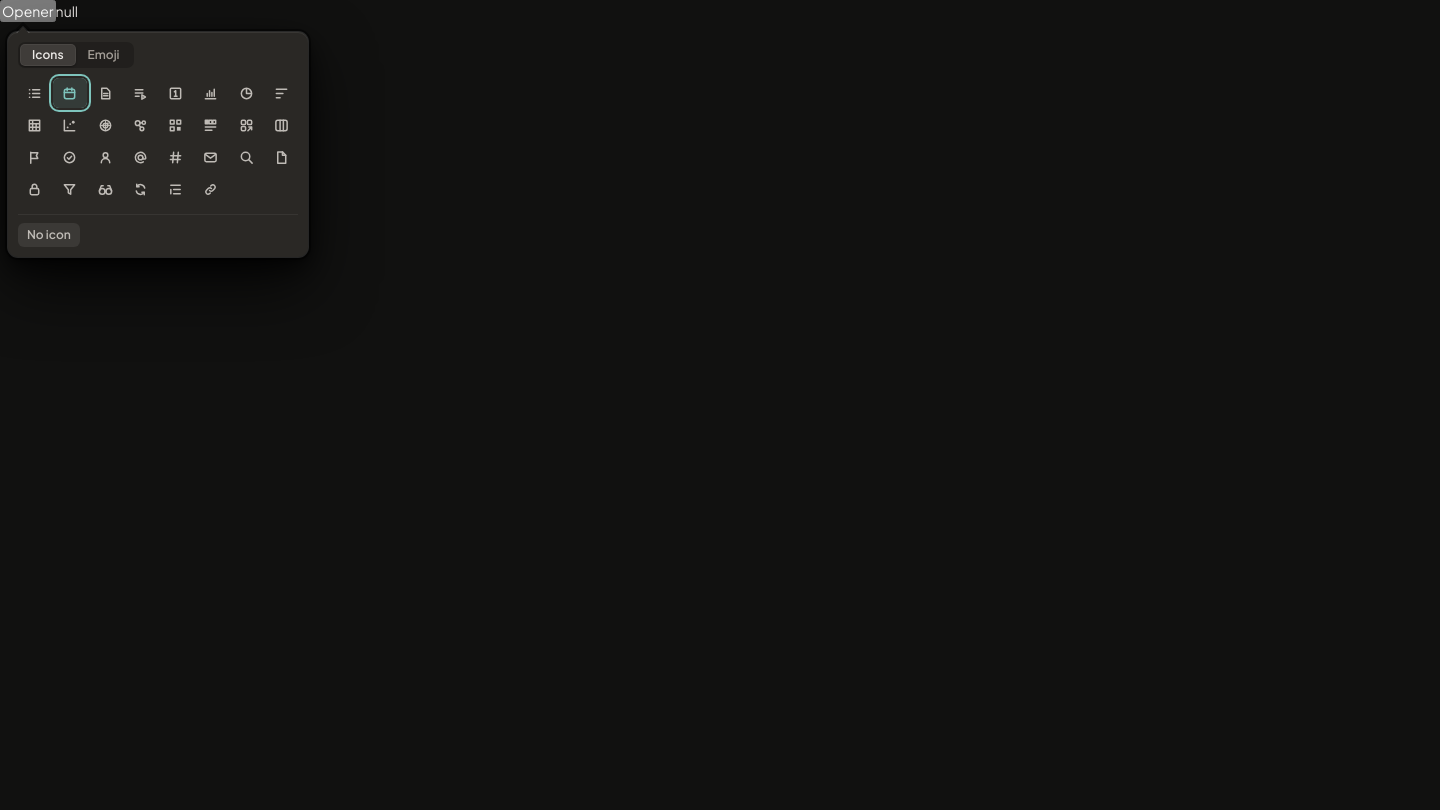
Scenario: IconPicker › opens on Icons with the current (fallback) icon marked and focused; a pick closes it
The width and height of the screenshot is (1440, 810).
Click the button named "Flag" at point(35, 157), box [18,142,51,172]
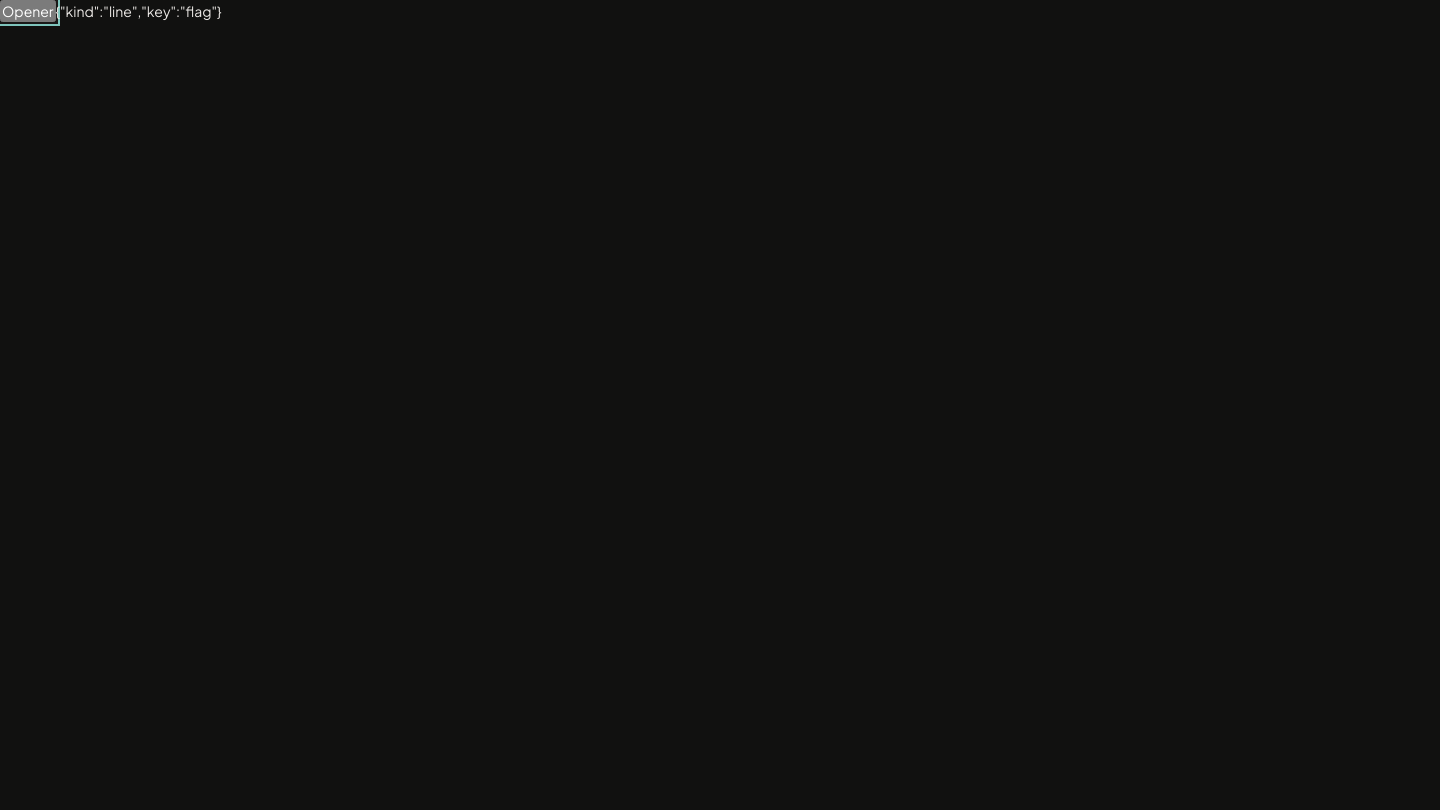
Now the dialog is gone
